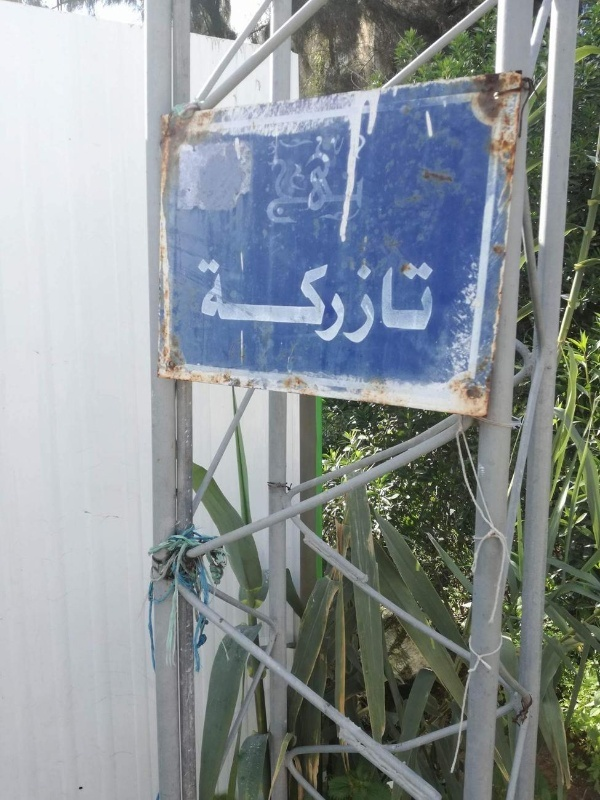text: (353, 146, 369, 229), (209, 257, 224, 344), (225, 257, 240, 344), (241, 257, 256, 344), (257, 257, 272, 344), (273, 257, 288, 344), (289, 257, 304, 344), (305, 257, 320, 344), (321, 257, 336, 344), (337, 257, 352, 344), (353, 257, 368, 344), (369, 257, 384, 344), (385, 257, 400, 344), (401, 257, 416, 344), (417, 257, 432, 344), (257, 146, 272, 229), (273, 146, 288, 229), (289, 146, 304, 229), (305, 146, 320, 229), (321, 146, 336, 229), (337, 146, 352, 229), (198, 257, 208, 344), (433, 257, 437, 344)
